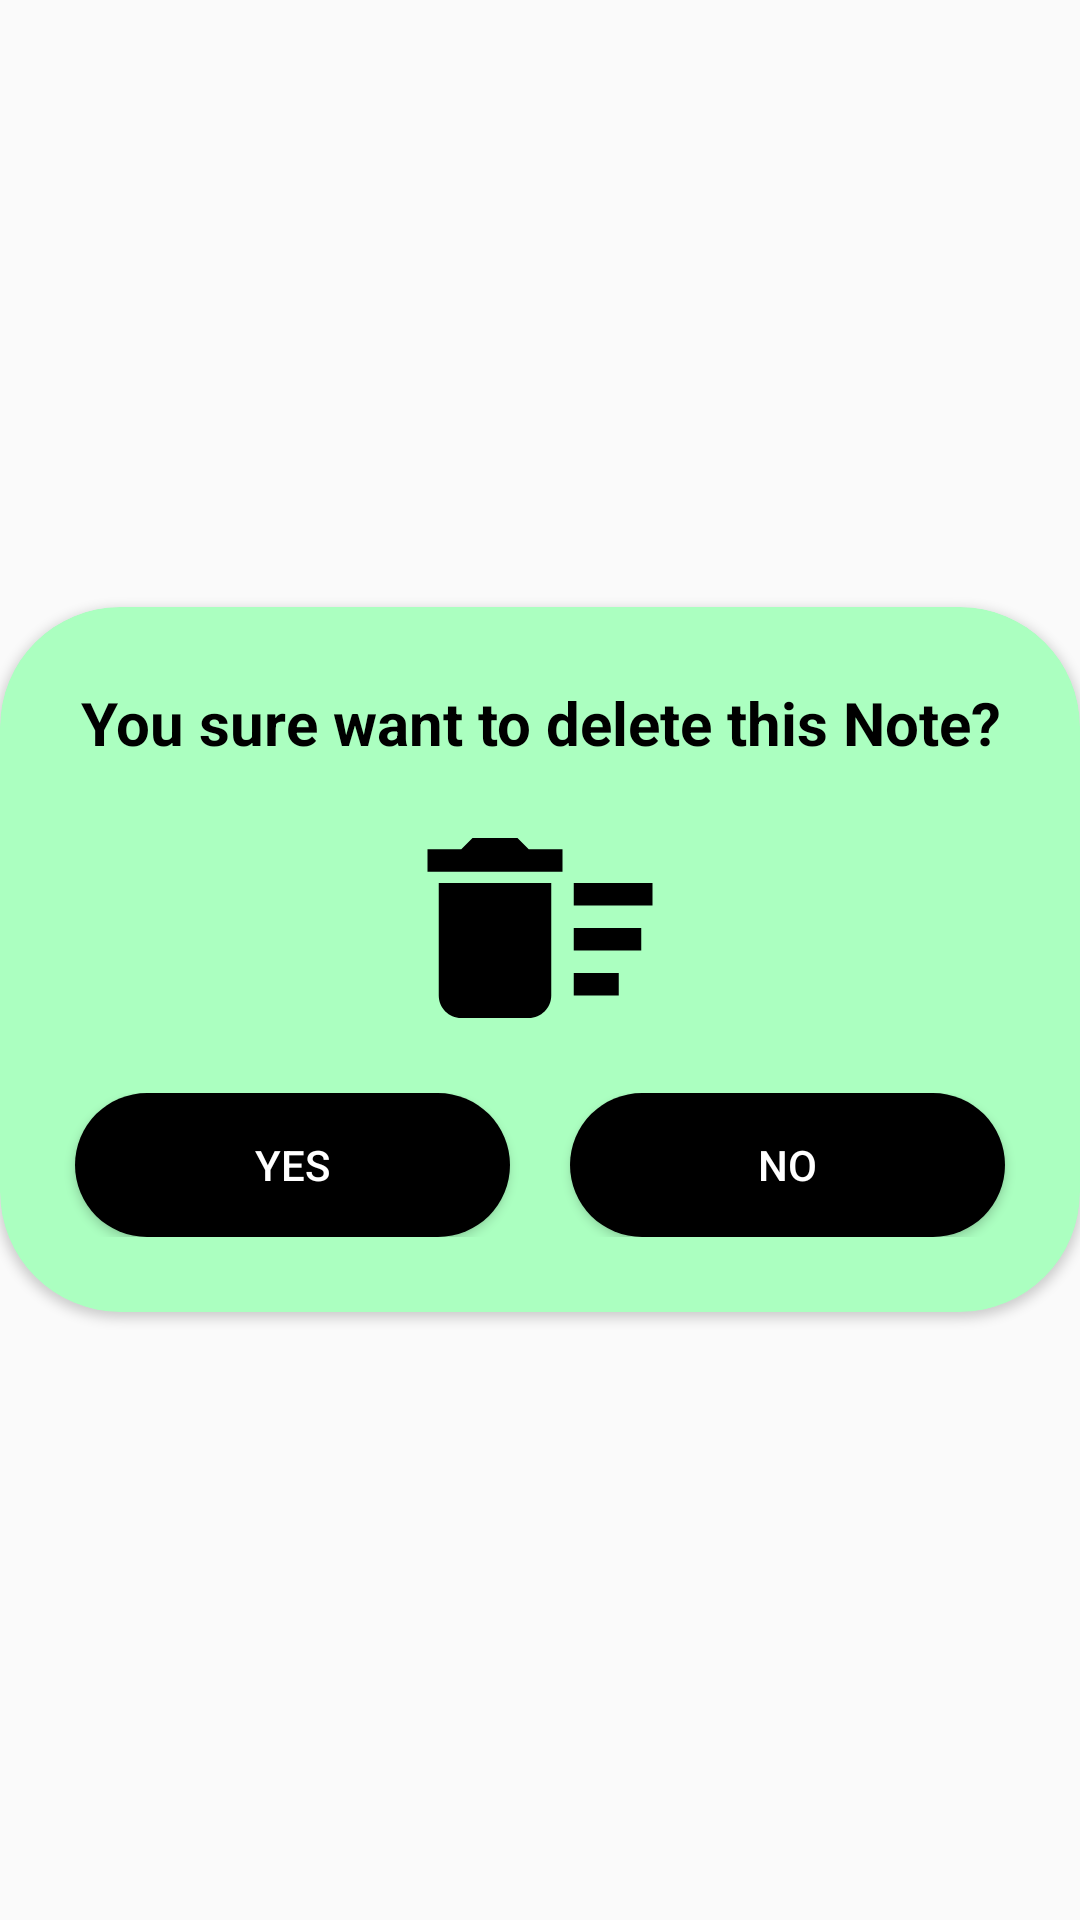

Point at icon controls on the screen. Image size 1080×1920, points as (x=x, y=y).
delete sweep: (x=540, y=928)
